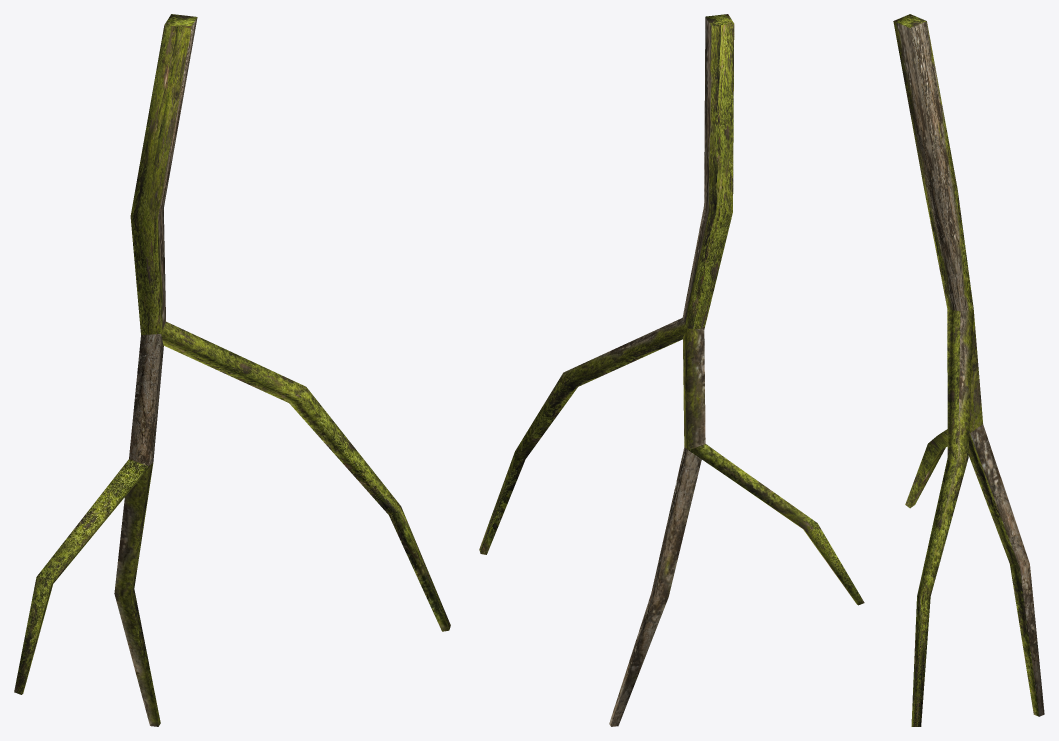
File: forest ground branch mossy 1.fbx
3 views of the same model, side by side, from view 1: azimuth 30°, elevation 25°; view 2: azimuth 150°, elevation 25°; view 3: azimuth 270°, elevation 25° (orthographic). The views are drawn at different scales.
Parts seen in each view (by area): view 1: Cylinder_004; view 2: Cylinder_004; view 3: Cylinder_004.
Part boxes in pixels (box(x1,y1,x2,y2)): Cylinder_004: box(14, 14, 450, 726); Cylinder_004: box(479, 14, 864, 726); Cylinder_004: box(893, 14, 1044, 726).
Size of the model in its own units: 0.7941 by 1.33 by 0.2702.
